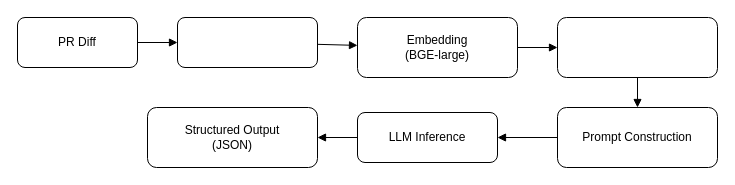
This 735x185 diagram has some shape labels left out. Each missing label, with the centre of its shape:
FAISS Retrieval (Top-K): (637,47)
Preprocessing: (247,42)
